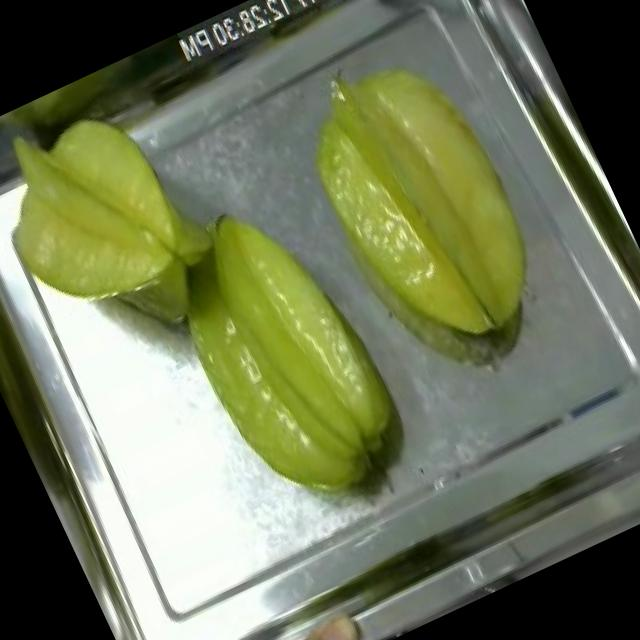fruit: (270, 18, 582, 392), (136, 172, 435, 540), (0, 85, 214, 340)
